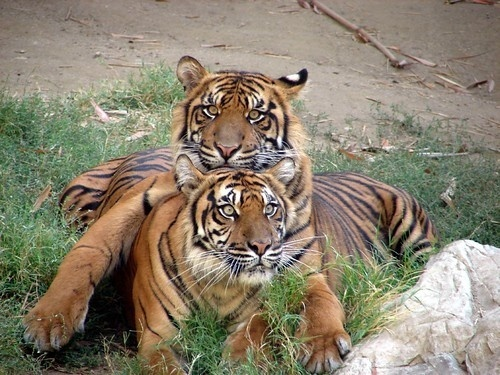tigre: (16, 55, 441, 369), (121, 154, 302, 375)
